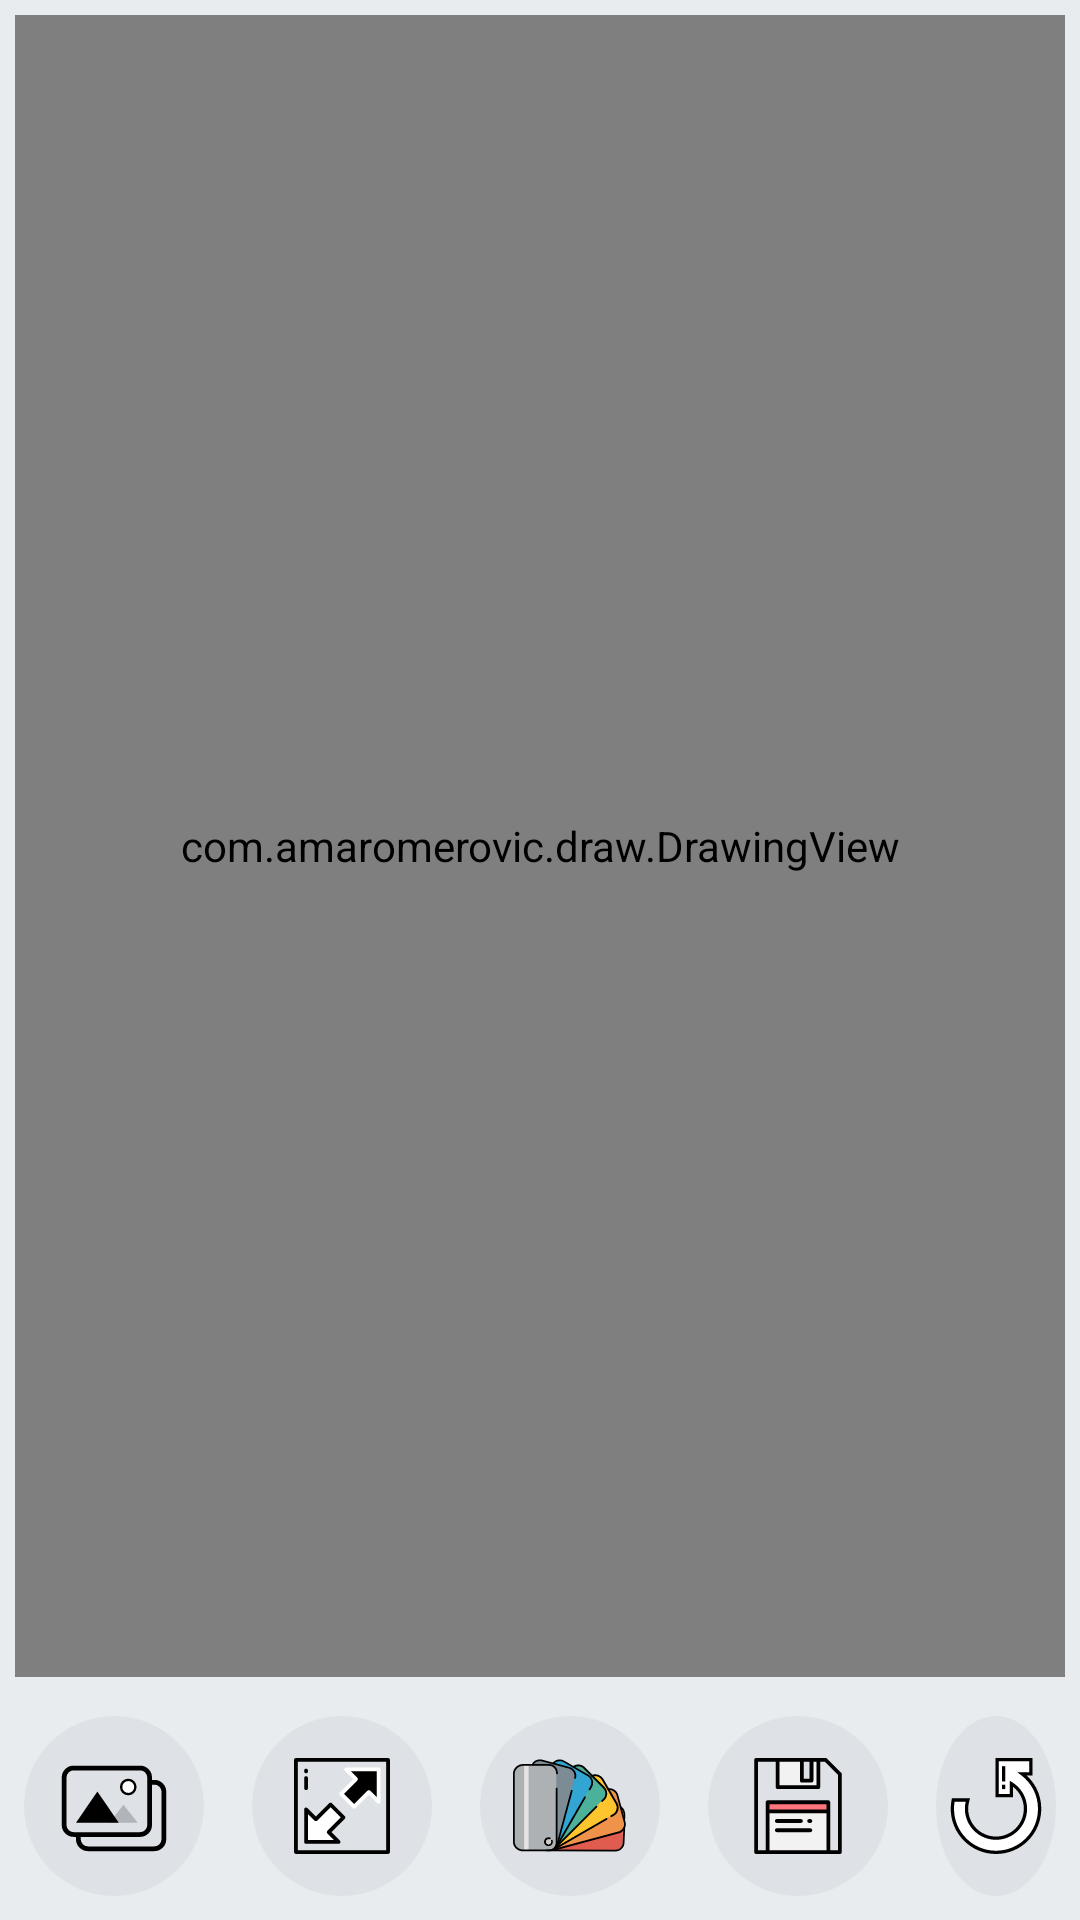

Named icons in this screenshot (1080w x 1920h) and their bounding boxes, (x1, y1, x2, y2):
Brush color dialog opener: (513, 1759, 626, 1852)
Brush size dialog opener: (252, 1716, 432, 1896)
Gallery opener: (24, 1716, 204, 1896)
Save button: (708, 1716, 888, 1896)
Undo button: (936, 1716, 1056, 1896)
